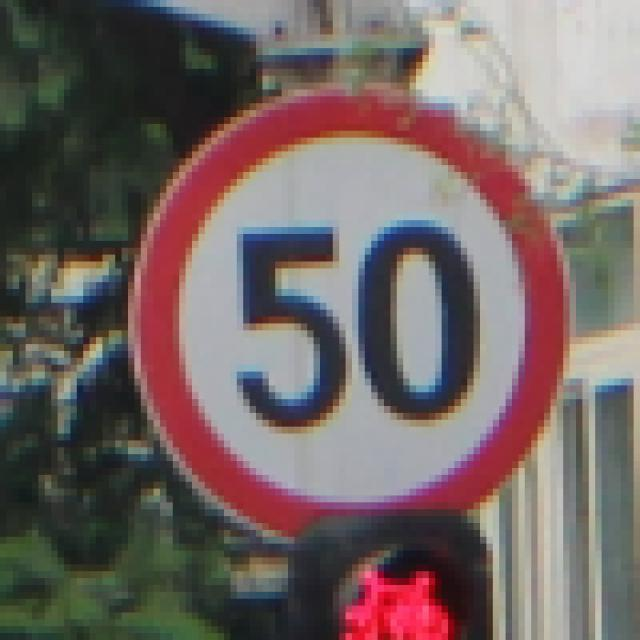speed limit 50: (126, 87, 572, 547)
